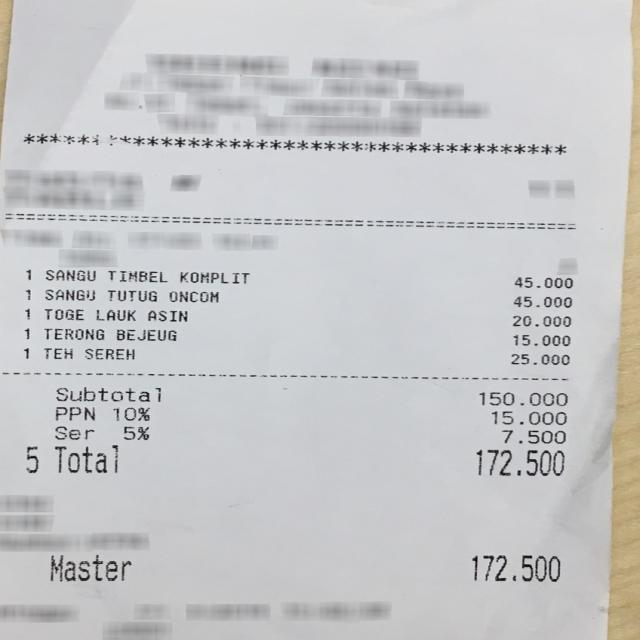text: (23, 132, 568, 154), (470, 555, 559, 581), (50, 554, 131, 582), (476, 449, 563, 475), (54, 386, 160, 402), (54, 445, 116, 472), (479, 391, 566, 405), (491, 410, 566, 424), (500, 428, 564, 443), (178, 271, 248, 283), (107, 270, 166, 281), (44, 328, 103, 339), (116, 329, 175, 340), (511, 315, 569, 326), (511, 334, 569, 345), (514, 276, 571, 287), (513, 296, 570, 307), (44, 269, 94, 281), (44, 288, 94, 300), (84, 347, 133, 359), (168, 290, 216, 302), (511, 354, 568, 364), (22, 444, 40, 474), (54, 425, 92, 439), (112, 406, 148, 420), (106, 290, 156, 300), (54, 406, 92, 419), (94, 309, 134, 320), (44, 308, 83, 319), (147, 310, 186, 320), (122, 426, 148, 439), (44, 347, 72, 358), (22, 345, 31, 360), (22, 288, 32, 300), (22, 307, 32, 319), (22, 325, 30, 340), (23, 268, 32, 280)
